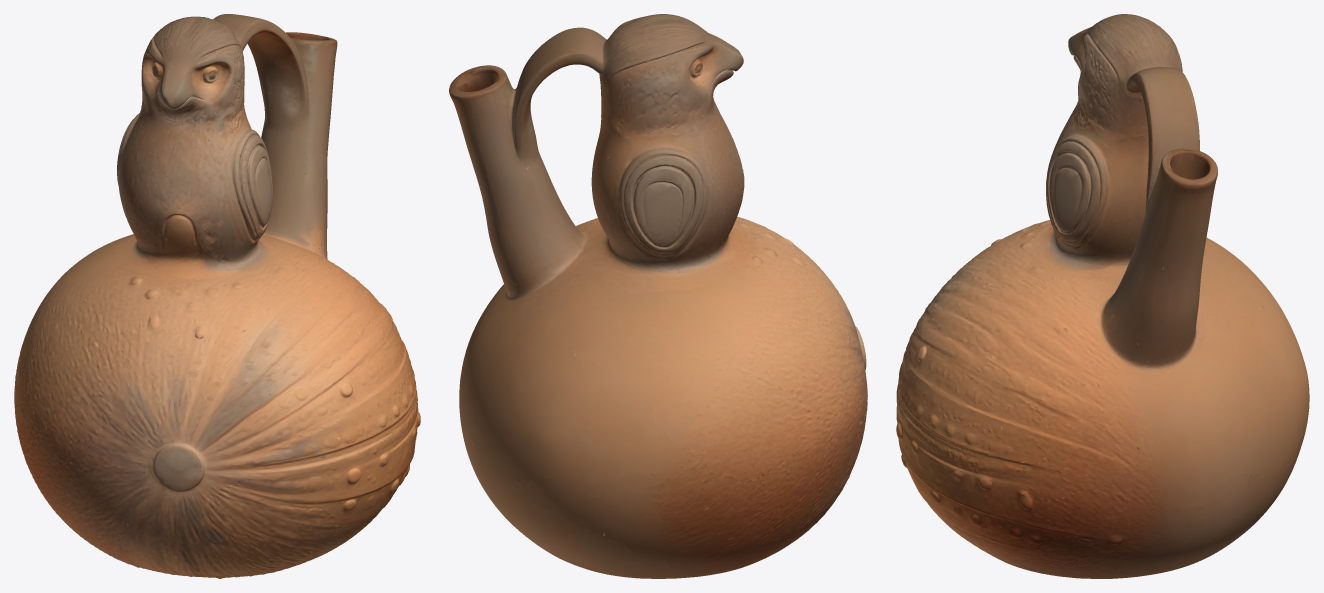
The model's file is botella sonora blend.obj.
3 renders of one model, left to right at view 1: azimuth 30°, elevation 25°; view 2: azimuth 150°, elevation 25°; view 3: azimuth 270°, elevation 25°, orthographic. The views are drawn at different scales.
Visible parts, largest first — view 1: node_0; view 2: node_0; view 3: node_0.
Part boxes in pixels (left/top/right/bottom): node_0: left=14, top=14, right=420, bottom=578; node_0: left=449, top=14, right=867, bottom=578; node_0: left=896, top=14, right=1309, bottom=578.
Size of the model in its own units: 0.7936 by 1.09 by 0.8152.
